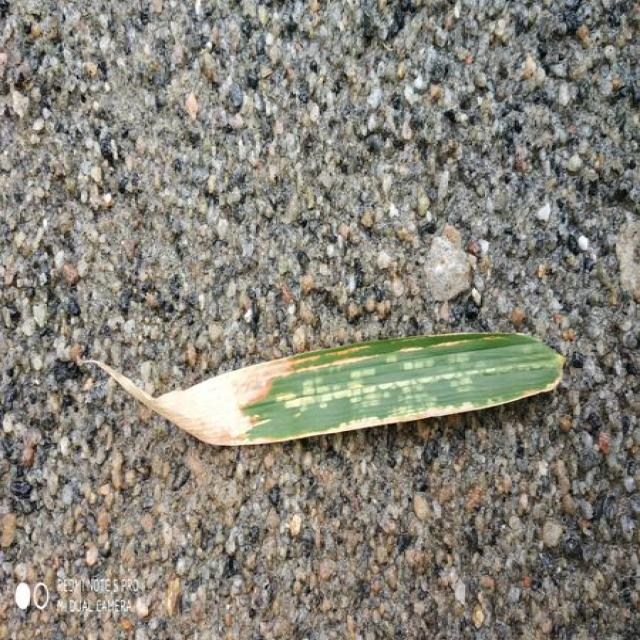Bamboo: (82, 332, 565, 445)
defectedBamboo: (82, 351, 342, 445)
